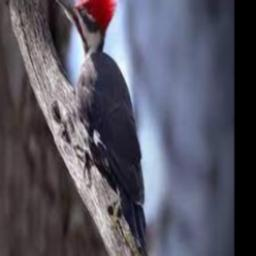Woodpecker: (53, 0, 148, 254)
